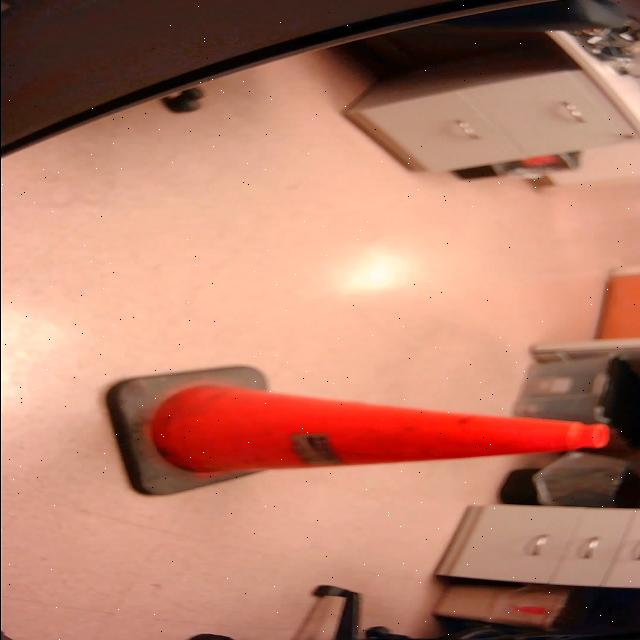traffic cone: (93, 363, 619, 503)
